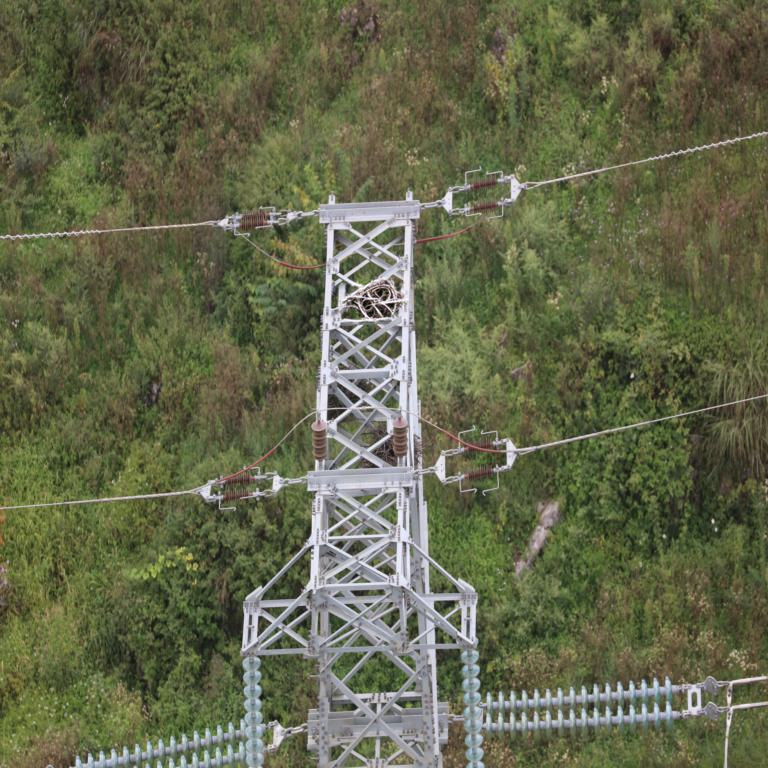nest: (354, 279, 397, 316), (368, 422, 407, 460)
